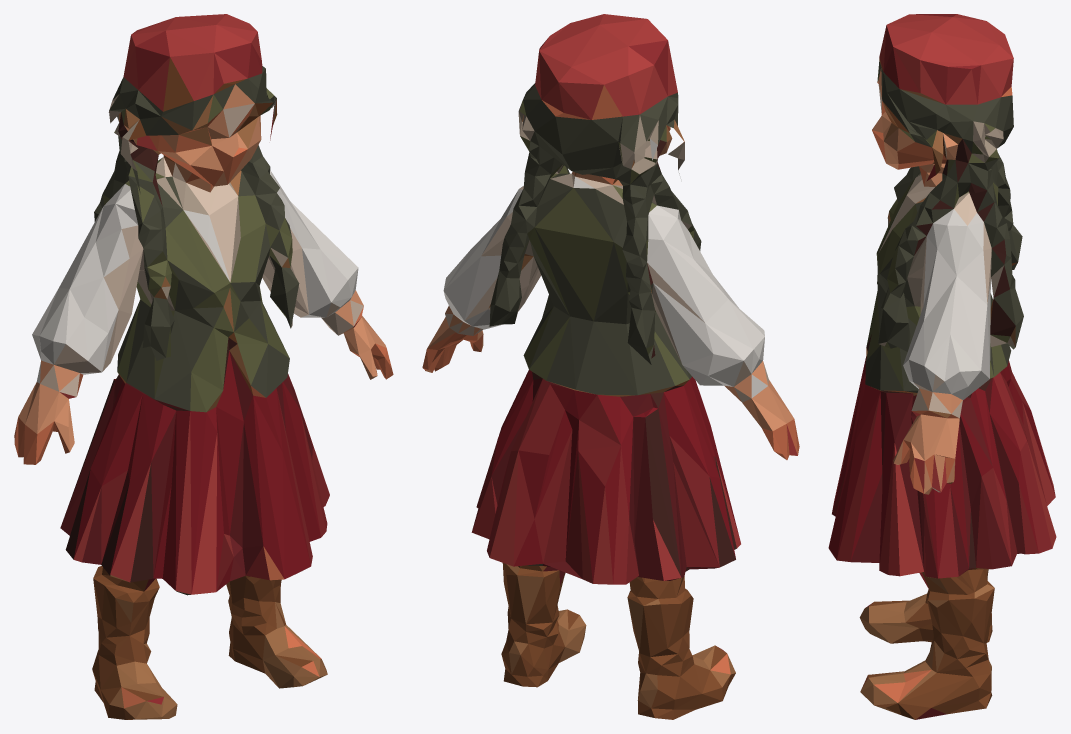
The model's file is child.blender.glb.
3 views of the same model, side by side, from view 1: azimuth 30°, elevation 25°; view 2: azimuth 150°, elevation 25°; view 3: azimuth 270°, elevation 25° (orthographic). The views are drawn at different scales.
Visible parts, largest first — view 1: child-blender; view 2: child-blender; view 3: child-blender.
Part boxes in pixels (x1,y1,x2,y2): child-blender: (14,14,393,719); child-blender: (422,14,799,719); child-blender: (828,14,1056,719).
Size of the model in its own units: 0.6718 by 1.15 by 0.369.
